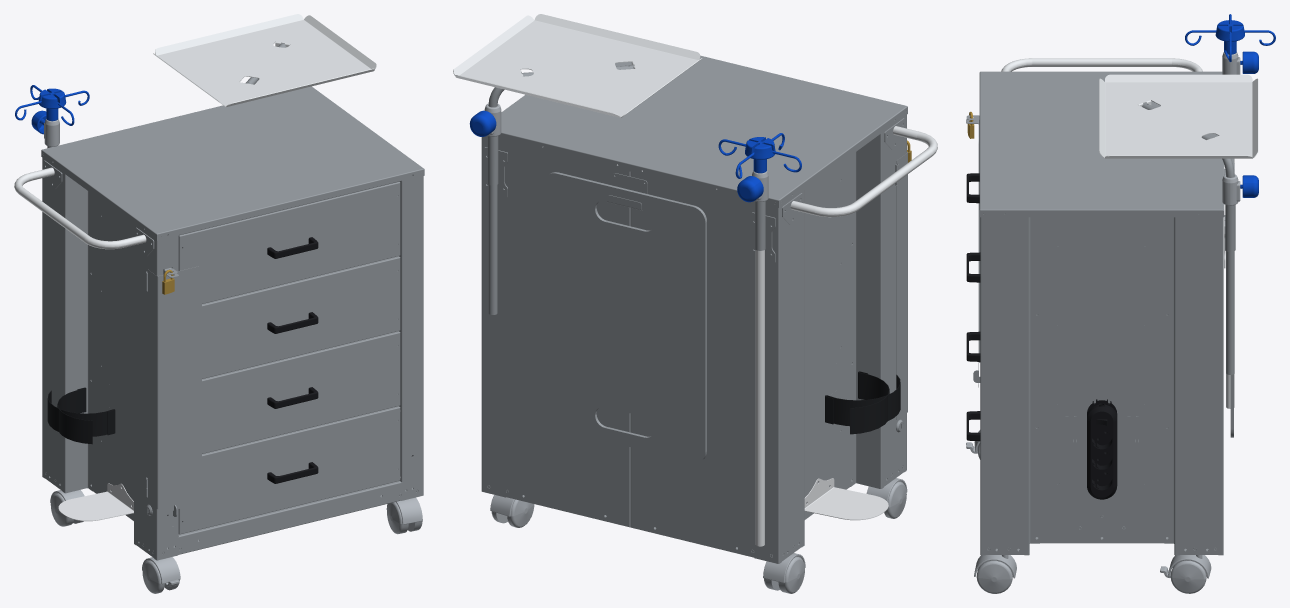
File: carro-emergencia-grande-ar.glb
The picture shows the model from 3 angles, left to right: view 1: azimuth 30°, elevation 25°; view 2: azimuth 150°, elevation 25°; view 3: azimuth 270°, elevation 25°; orthographic projection. The views are drawn at different scales.
Parts seen in each view (by area): view 1: peca_estrutura__21, peca_gavetas__33, peca_gavetas__40, peca_gavetas__38, peca_gavetas__39, peca_trava__96, peca_estrutura__26, peca_estrutura__24, peca_desfibrilador__1, peca_estrutura__23, peca_estrutura__16, peca_estrutura__14 (+7 smaller); view 2: peca_tabua__94, peca_estrutura__26, peca_estrutura__21, peca_estrutura__22, peca_estrutura__24, peca_desfibrilador__1, peca_estrutura__16, peca_soro__85, peca_trava__96, peca_oxigenio__45, peca_alca__0, peca_oxigenio__47 (+6 smaller); view 3: peca_estrutura__25, peca_estrutura__21, peca_estrutura__22, peca_estrutura__23, peca_desfibrilador__1, peca_regua__48, peca_alca__0, peca_estrutura__15, peca_rodizios__60, peca_rodizios__50, peca_soro__86, peca_trava__96 (+4 smaller).
Boxes of the visible parts, bbox=[...] form: peca_estrutura__21: bbox=[41, 86, 424, 240]; peca_gavetas__33: bbox=[178, 181, 400, 303]; peca_gavetas__40: bbox=[178, 406, 400, 534]; peca_gavetas__38: bbox=[202, 256, 400, 378]; peca_gavetas__39: bbox=[202, 331, 400, 453]; peca_trava__96: bbox=[147, 266, 201, 512]; peca_estrutura__26: bbox=[42, 157, 91, 492]; peca_estrutura__24: bbox=[88, 191, 133, 520]; peca_desfibrilador__1: bbox=[153, 14, 376, 107]; peca_estrutura__23: bbox=[397, 174, 423, 500]; peca_estrutura__16: bbox=[134, 225, 178, 559]; peca_estrutura__14: bbox=[42, 476, 423, 560]; peca_tabua__94: bbox=[544, 172, 706, 462]; peca_estrutura__26: bbox=[630, 170, 804, 563]; peca_estrutura__21: bbox=[486, 55, 907, 207]; peca_estrutura__22: bbox=[481, 136, 630, 527]; peca_estrutura__24: bbox=[804, 152, 855, 519]; peca_desfibrilador__1: bbox=[453, 14, 702, 117]; peca_estrutura__16: bbox=[852, 115, 906, 488]; peca_soro__85: bbox=[755, 250, 764, 546]; peca_trava__96: bbox=[896, 152, 907, 419]; peca_oxigenio__45: bbox=[804, 478, 888, 520]; peca_alca__0: bbox=[790, 126, 937, 217]; peca_oxigenio__47: bbox=[850, 371, 889, 434]; peca_estrutura__25: bbox=[1030, 217, 1173, 543]; peca_estrutura__21: bbox=[979, 71, 1224, 217]; peca_estrutura__22: bbox=[1173, 214, 1223, 554]; peca_estrutura__23: bbox=[980, 217, 1030, 554]; peca_desfibrilador__1: bbox=[1099, 74, 1258, 158]; peca_regua__48: bbox=[1087, 399, 1117, 499]; peca_alca__0: bbox=[1001, 58, 1202, 71]; peca_estrutura__15: bbox=[1142, 103, 1234, 374]; peca_rodizios__60: bbox=[1170, 560, 1206, 593]; peca_rodizios__50: bbox=[976, 560, 1012, 593]; peca_soro__86: bbox=[1215, 20, 1244, 54]; peca_trava__96: bbox=[966, 119, 980, 387].
Bounding box in the file's own units: 0.7378 × 0.906 × 0.57.
